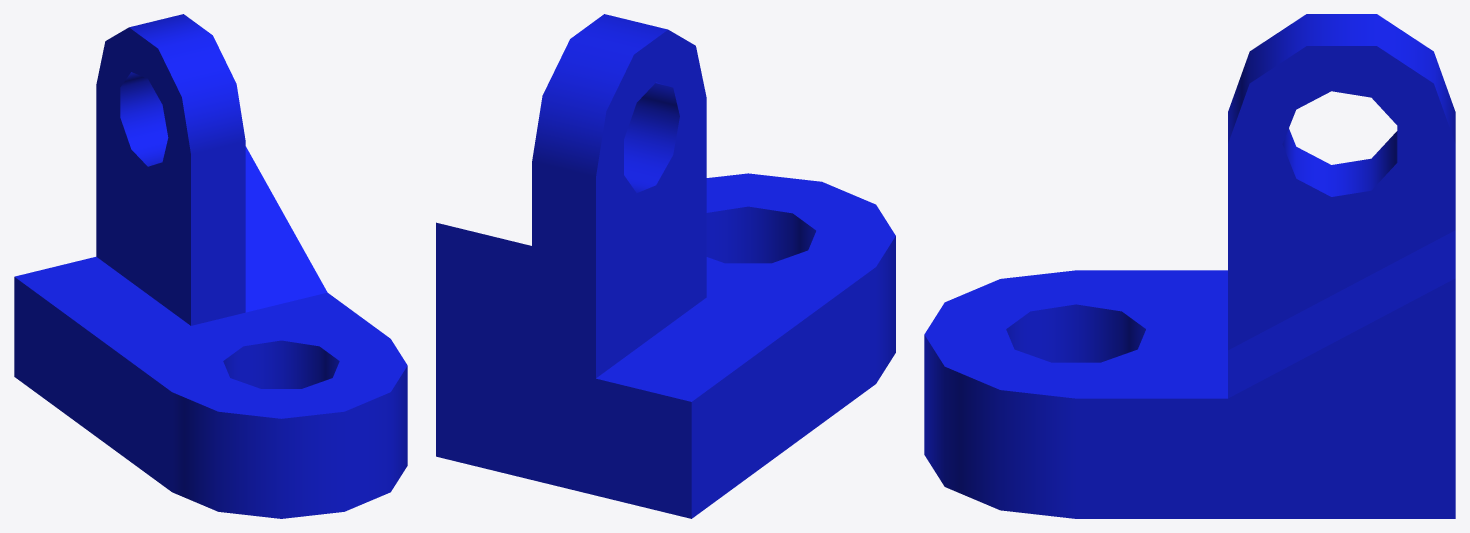
Rendered from asset.glb.
The picture shows the model from 3 angles, left to right: view 1: azimuth 30°, elevation 25°; view 2: azimuth 150°, elevation 25°; view 3: azimuth 270°, elevation 25°; orthographic projection. The views are drawn at different scales.
Parts seen in each view (by area): view 1: Asset3DLoader.sceneRoot; view 2: Asset3DLoader.sceneRoot; view 3: Asset3DLoader.sceneRoot.
Boxes of the visible parts, box(x1,y1,x2,y2) form: Asset3DLoader.sceneRoot: box(14, 14, 407, 518); Asset3DLoader.sceneRoot: box(436, 14, 895, 518); Asset3DLoader.sceneRoot: box(924, 14, 1455, 518).
Size of the model in its own units: 64 by 98.83 by 112.
